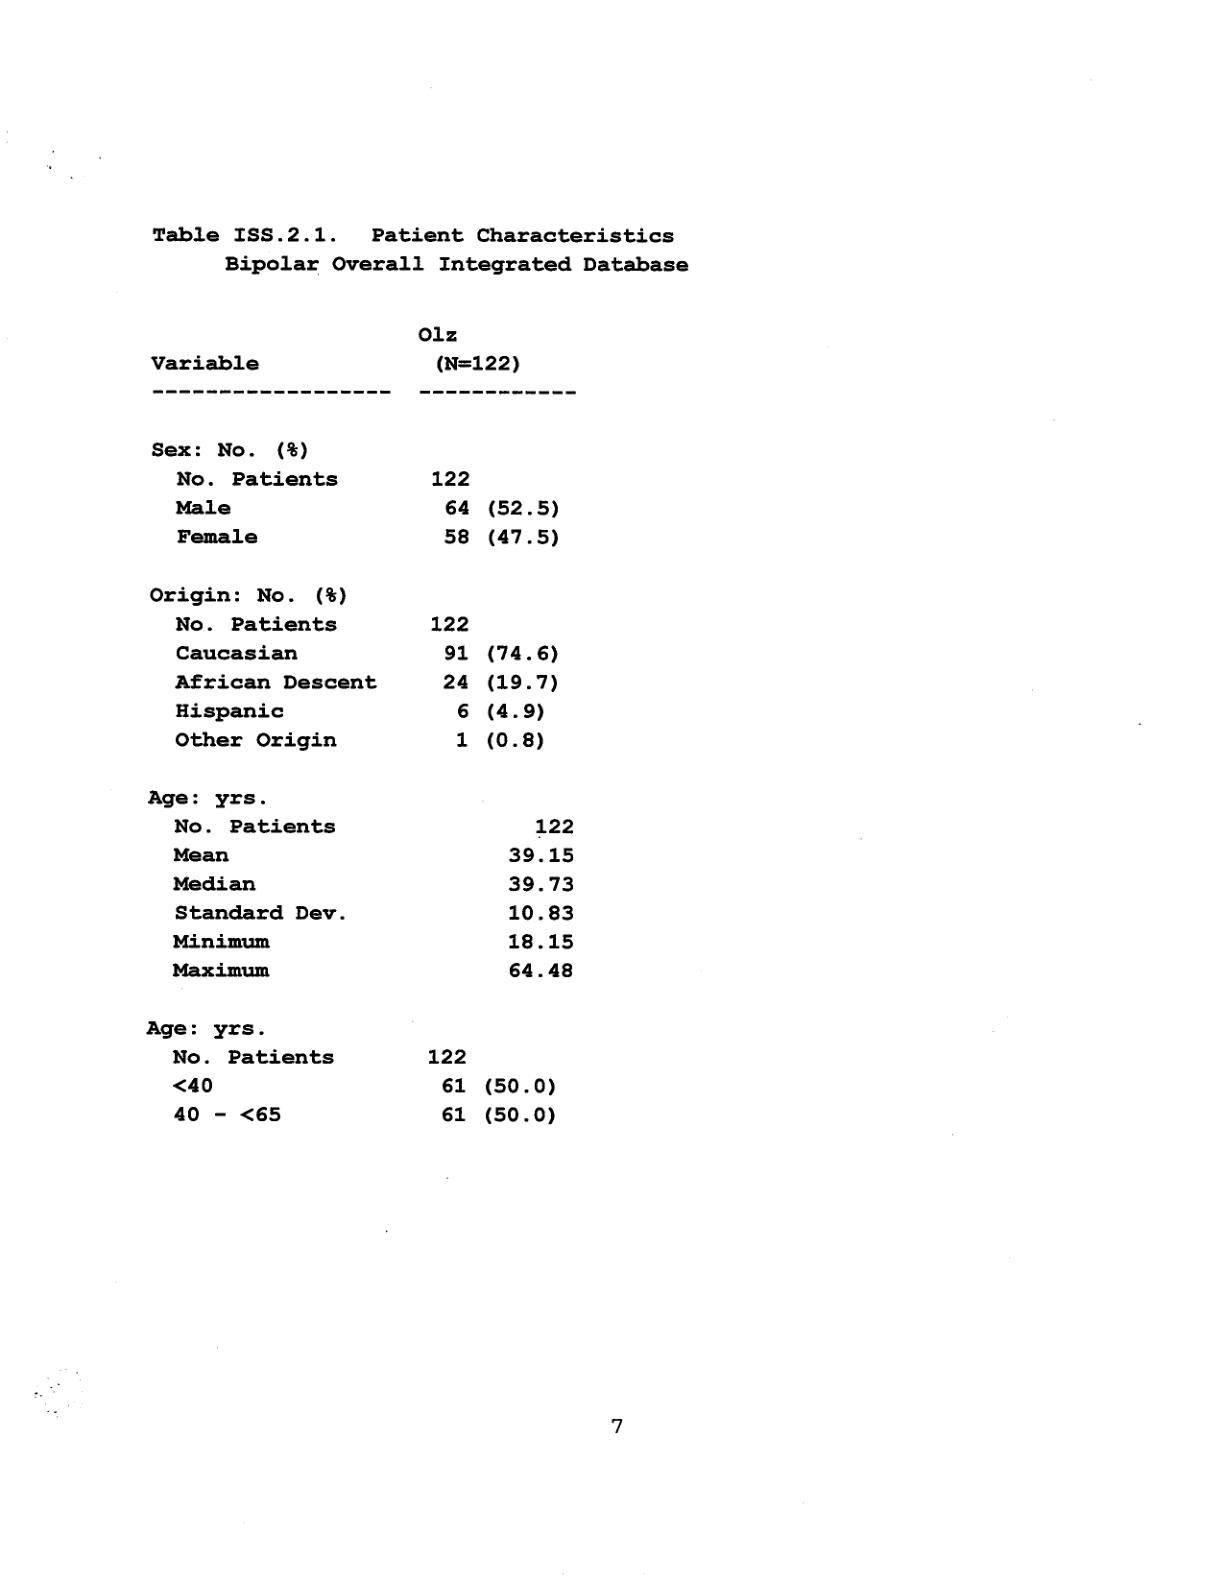nolines: (141, 322, 583, 1130)
